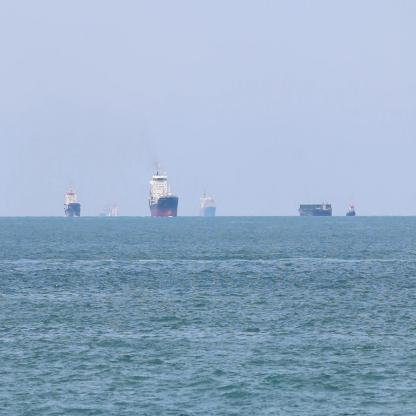Container Ship: (147, 160, 180, 219), (63, 179, 82, 220), (297, 198, 334, 218), (198, 185, 218, 220), (344, 200, 359, 218)
